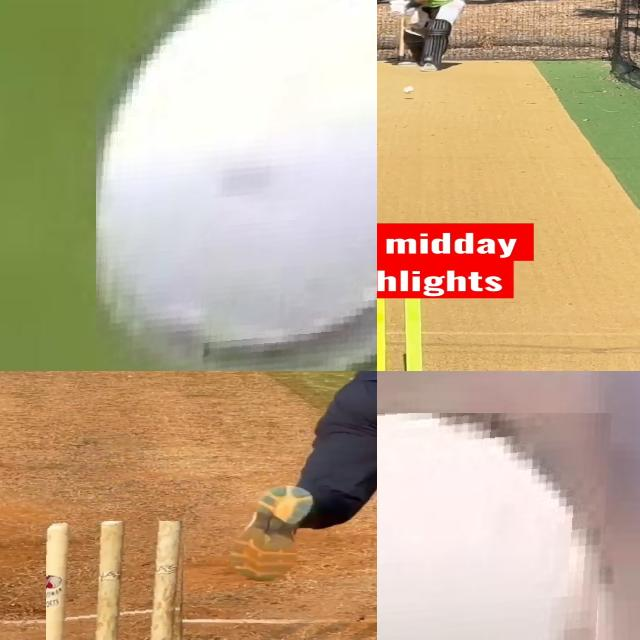Cricket ball: (96, 0, 377, 371), (377, 413, 614, 640), (402, 86, 416, 94)
Stumps: (46, 521, 187, 640)
